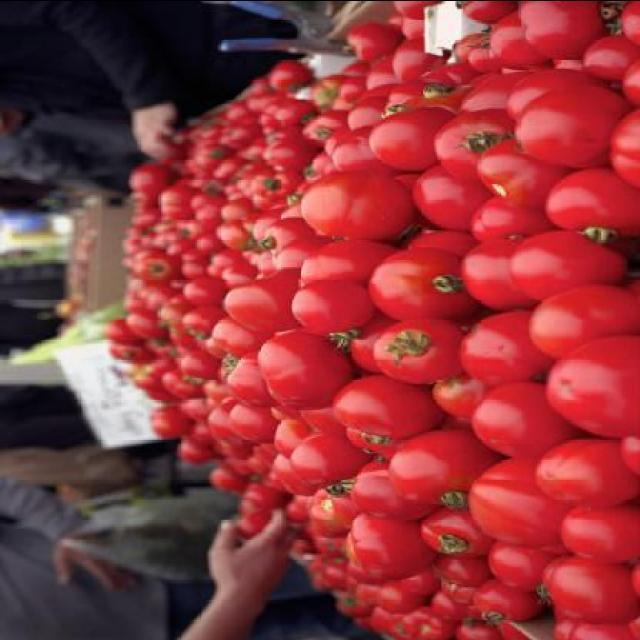Tomato: (103, 0, 640, 640), (250, 326, 354, 408)
